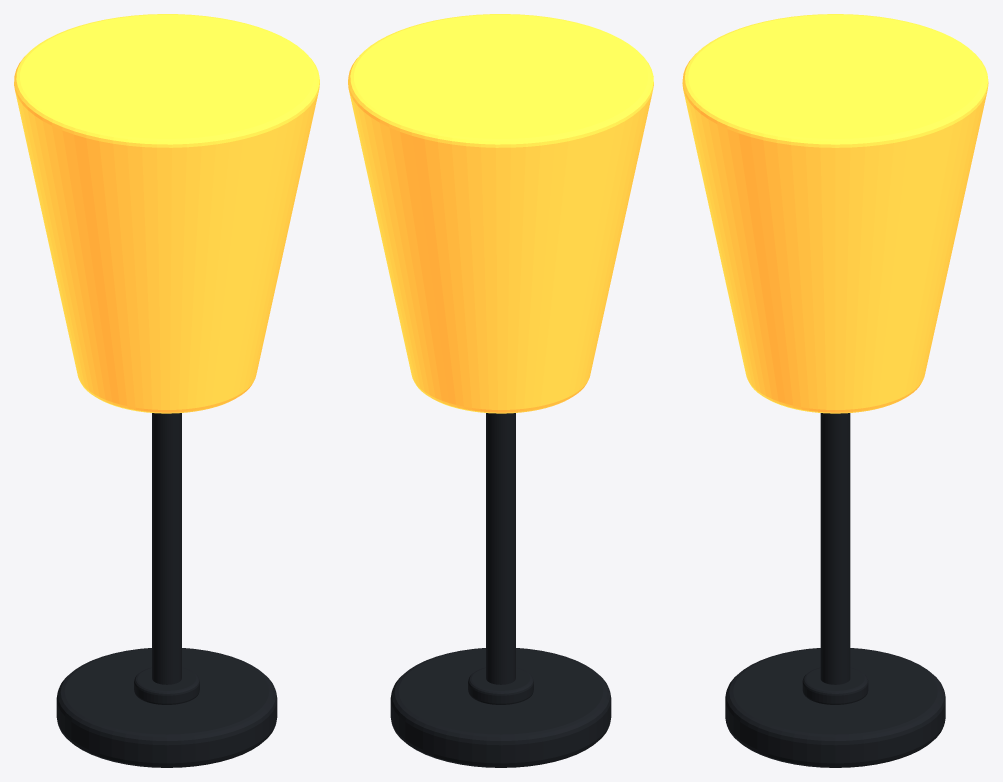
Rendered from GlowFloorLamp.glb.
3 views of the same model, side by side, from view 1: azimuth 30°, elevation 25°; view 2: azimuth 150°, elevation 25°; view 3: azimuth 270°, elevation 25° (orthographic).
Parts seen in each view (by area): view 1: GlowHousing, Base, Stem, BaseCollar; view 2: GlowHousing, Base, Stem, BaseCollar; view 3: GlowHousing, Base, Stem, BaseCollar.
Part boxes in pixels (bbox=[...]): GlowHousing: bbox=[14, 14, 319, 413]; Base: bbox=[56, 648, 277, 767]; Stem: bbox=[152, 413, 181, 684]; BaseCollar: bbox=[134, 667, 199, 704]; GlowHousing: bbox=[348, 14, 653, 413]; Base: bbox=[390, 648, 611, 767]; Stem: bbox=[486, 413, 515, 684]; BaseCollar: bbox=[468, 667, 533, 704]; GlowHousing: bbox=[682, 14, 988, 413]; Base: bbox=[725, 648, 945, 767]; Stem: bbox=[820, 413, 850, 684]; BaseCollar: bbox=[802, 667, 868, 704].
Size of the model in its own units: 0.763 by 1.78 by 0.763.
